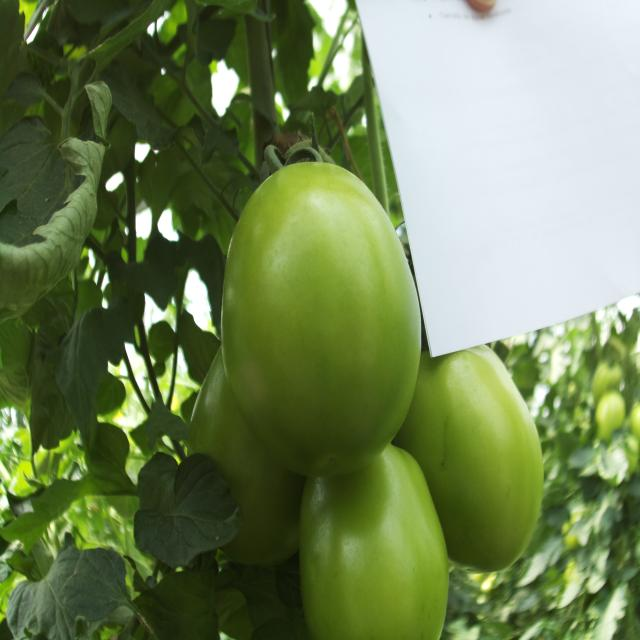yesil: (175, 107, 557, 640)
